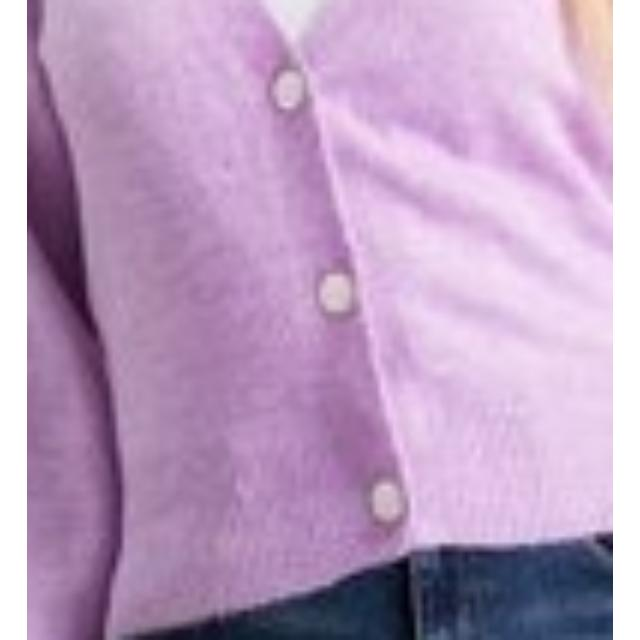cotton: (27, 0, 613, 496)
